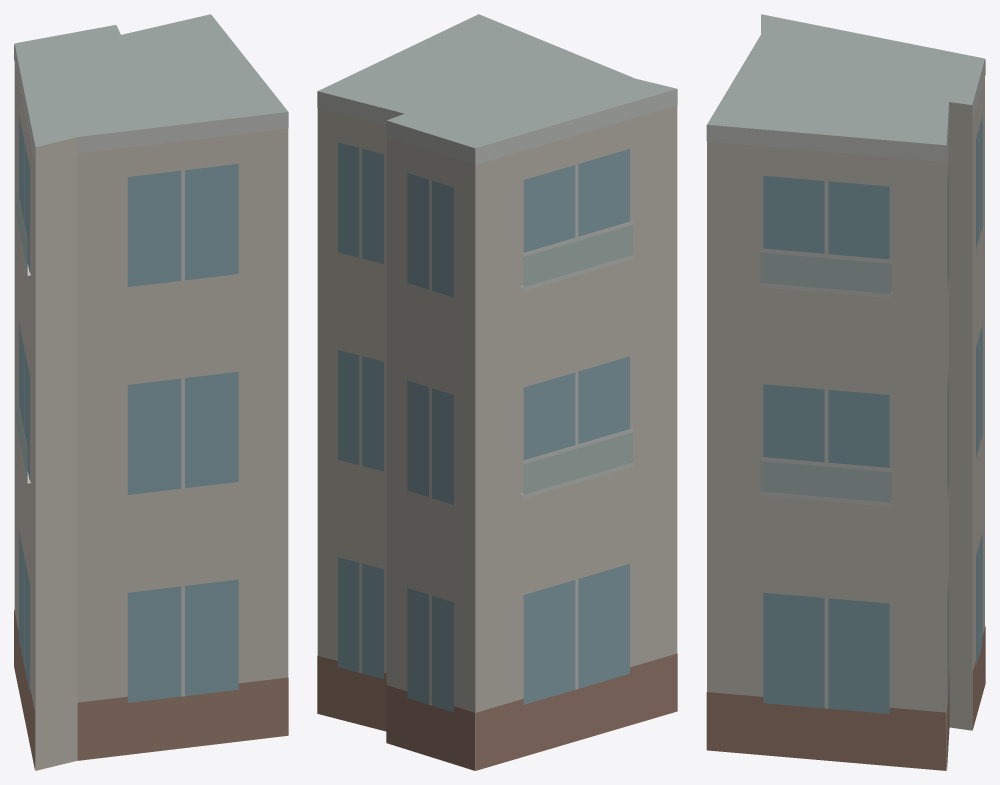
File: survey-upis-32475037.glb
3 renders of one model, left to right at view 1: azimuth 30°, elevation 25°; view 2: azimuth 150°, elevation 25°; view 3: azimuth 270°, elevation 25°, orthographic.
Parts seen in each view (by area): view 1: survey-upis-32475037.tmp; view 2: survey-upis-32475037.tmp; view 3: survey-upis-32475037.tmp.
Part boxes in pixels (left/top/right/bottom): survey-upis-32475037.tmp: left=14, top=14, right=288, bottom=770; survey-upis-32475037.tmp: left=317, top=14, right=677, bottom=770; survey-upis-32475037.tmp: left=706, top=14, right=985, bottom=770.
Size of the model in its own units: 4.13 by 9.15 by 3.7.
